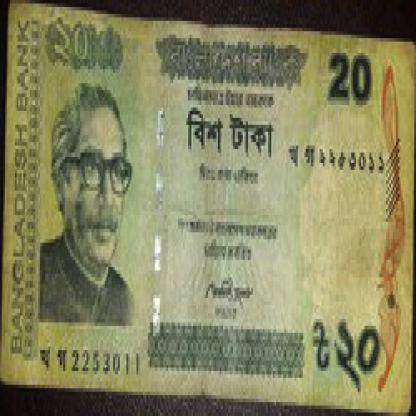Twenty: (311, 315, 388, 392), (316, 35, 378, 118), (183, 111, 276, 163), (48, 21, 125, 73)
